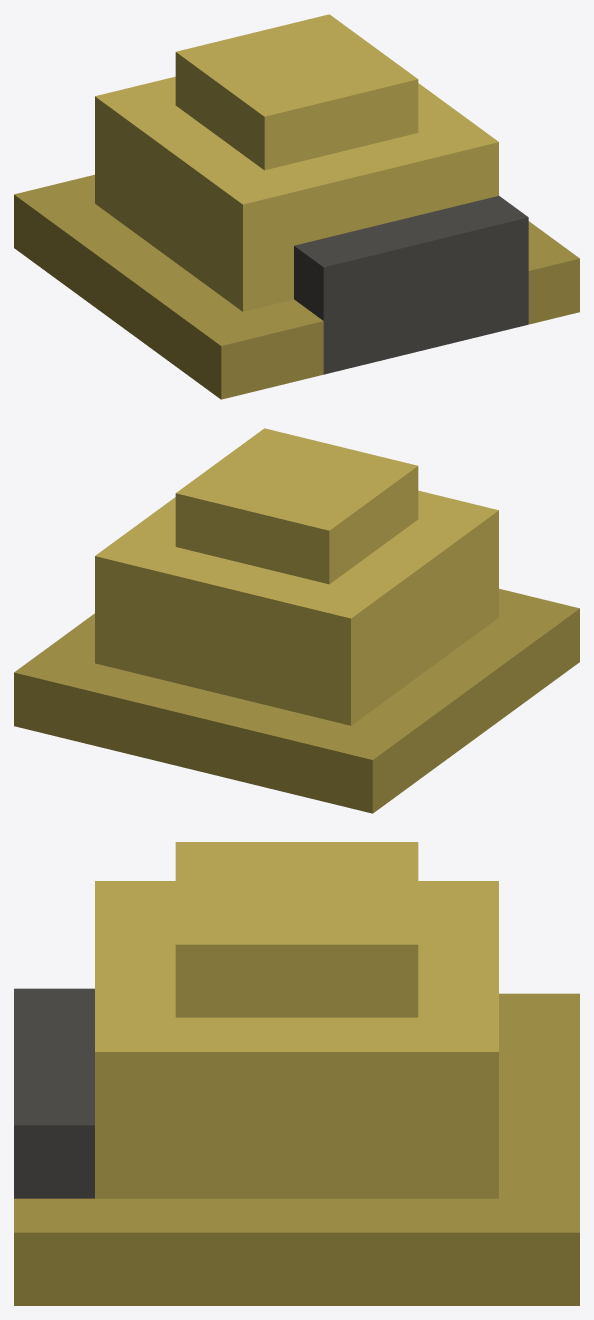
The model's file is legendario_casco_pirata_01.glb.
3 views of the same model, one above another, from view 1: azimuth 30°, elevation 25°; view 2: azimuth 150°, elevation 25°; view 3: azimuth 270°, elevation 25° (orthographic). The views are drawn at different scales.
Visible parts, largest first — view 1: legendario_casco_pirata; view 2: legendario_casco_pirata; view 3: legendario_casco_pirata.
Part boxes in pixels (x1,y1,x2,y2): legendario_casco_pirata: (14,14,579,399); legendario_casco_pirata: (14,428,579,813); legendario_casco_pirata: (14,842,579,1305).
Size of the model in its own units: 0.5833 by 0.3333 by 0.5833.
